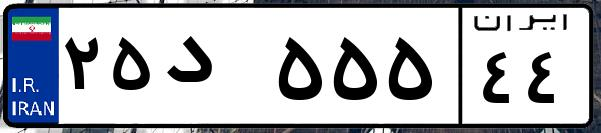2: (57, 26, 110, 100)
4: (475, 38, 525, 113), (525, 38, 570, 115)
5: (270, 28, 330, 110), (385, 28, 445, 110), (330, 28, 385, 110), (110, 28, 158, 98)
د: (158, 20, 270, 120)
